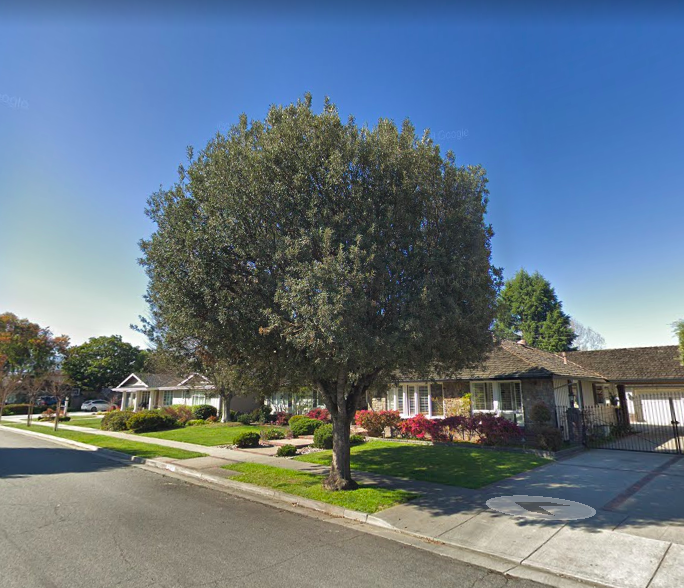tree: (129, 91, 505, 490)
